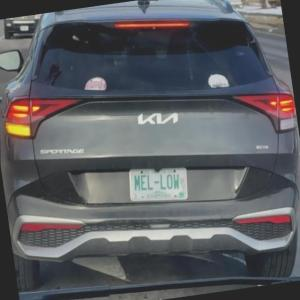Plate: (128, 167, 189, 202)
